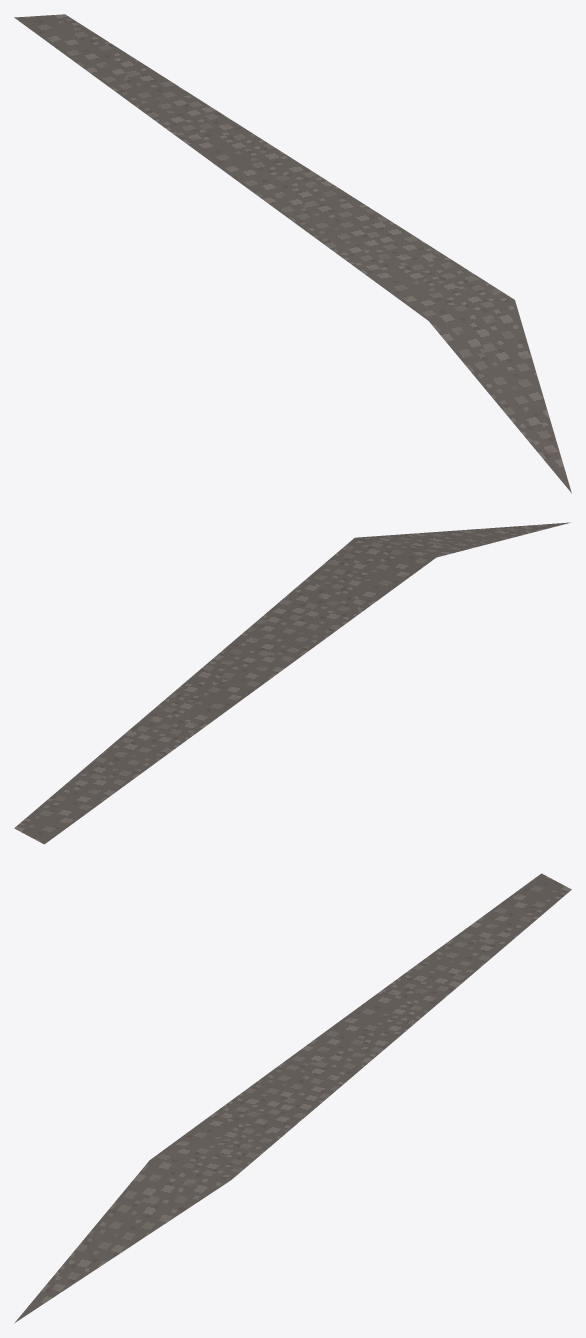
Rendered from kd_stage_135c43_4_150_bounded_piece_1.glb.
The picture shows the model from 3 angles, top to bottom: view 1: azimuth 30°, elevation 25°; view 2: azimuth 150°, elevation 25°; view 3: azimuth 330°, elevation 25°; orthographic projection. The views are drawn at different scales.
Parts seen in each view (by area): view 1: kd_stage_135c43_4_150_bounded_piece_1; view 2: kd_stage_135c43_4_150_bounded_piece_1; view 3: kd_stage_135c43_4_150_bounded_piece_1.
Part boxes in pixels (box(x1,y1,x2,y2)): kd_stage_135c43_4_150_bounded_piece_1: box(14, 14, 571, 493); kd_stage_135c43_4_150_bounded_piece_1: box(14, 522, 571, 844); kd_stage_135c43_4_150_bounded_piece_1: box(14, 873, 571, 1323).
Size of the model in its own units: 0.0594 by 0.0445 by 0.6644.
1 material, 1 textured.
